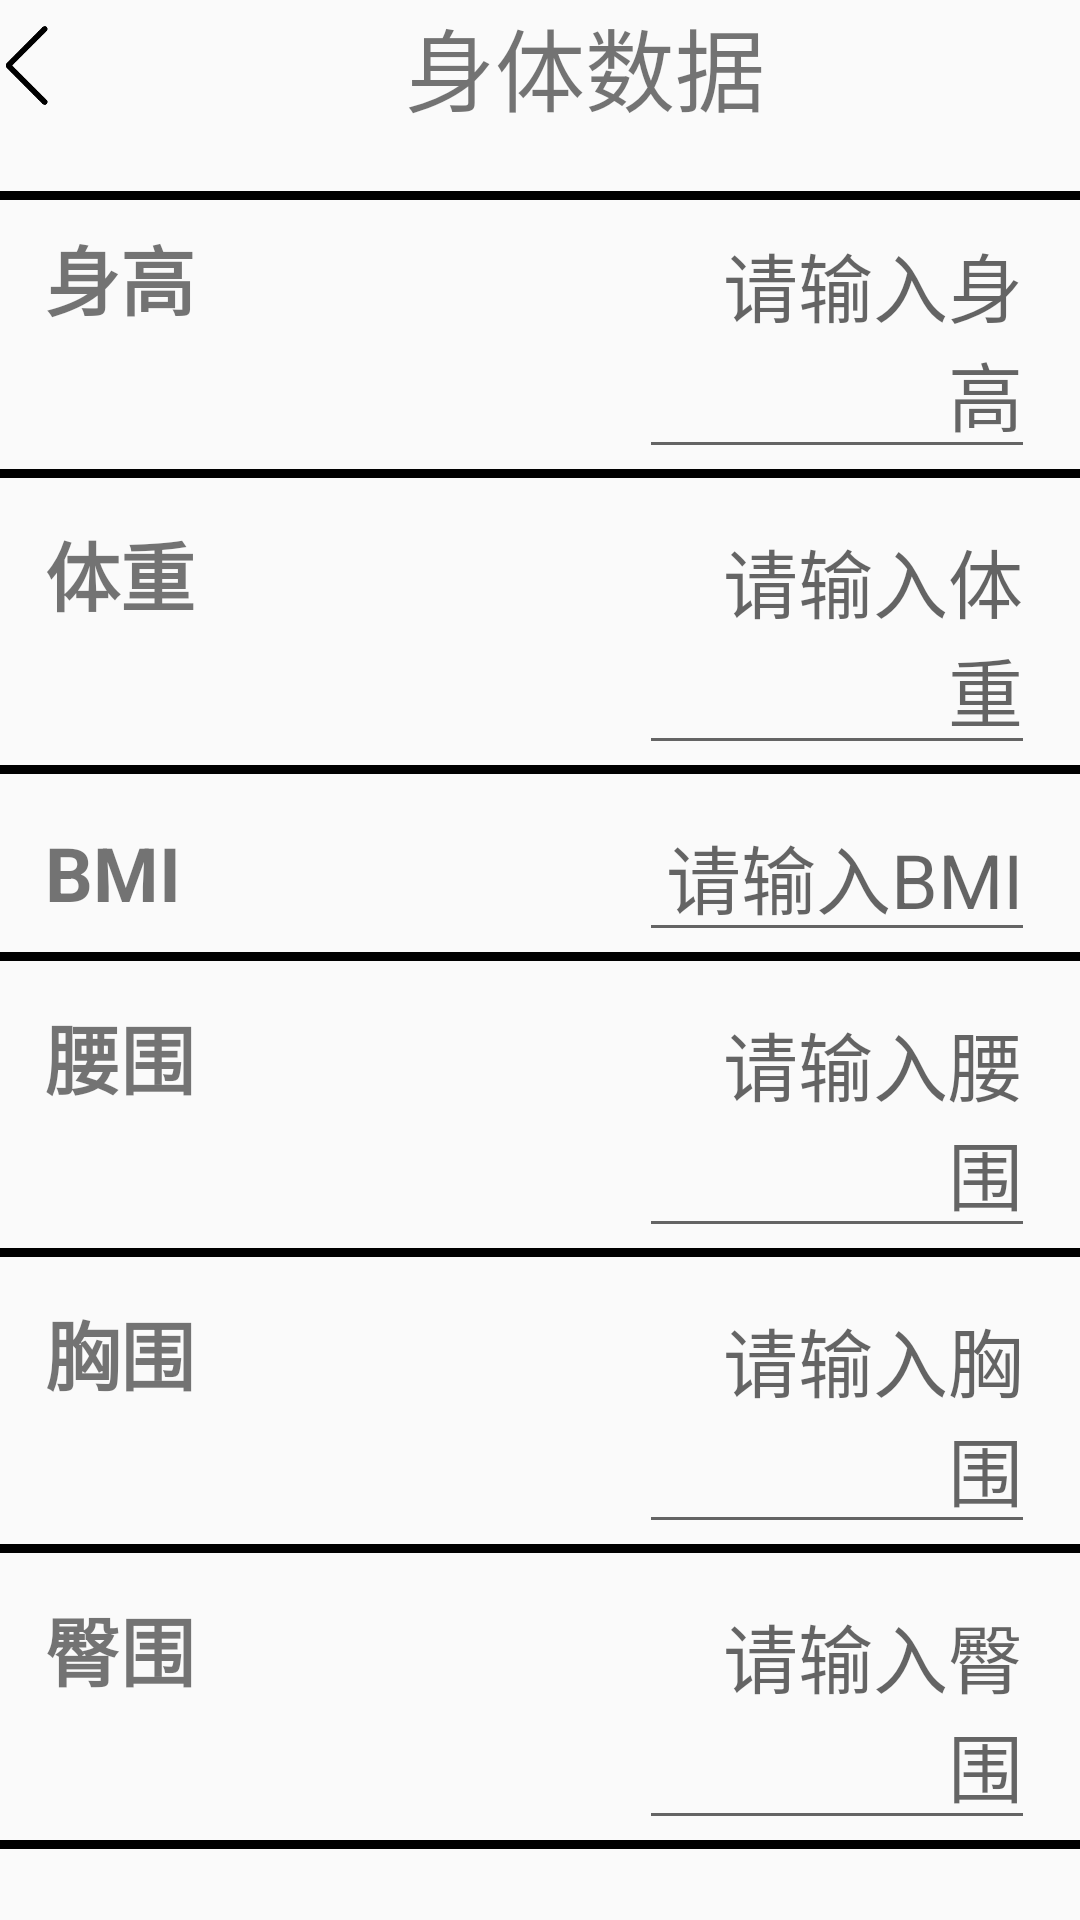

Where icons sit on this 1080x1920 app screen, as (x1, y1, x2, y2):
back: (6, 26, 48, 105)
